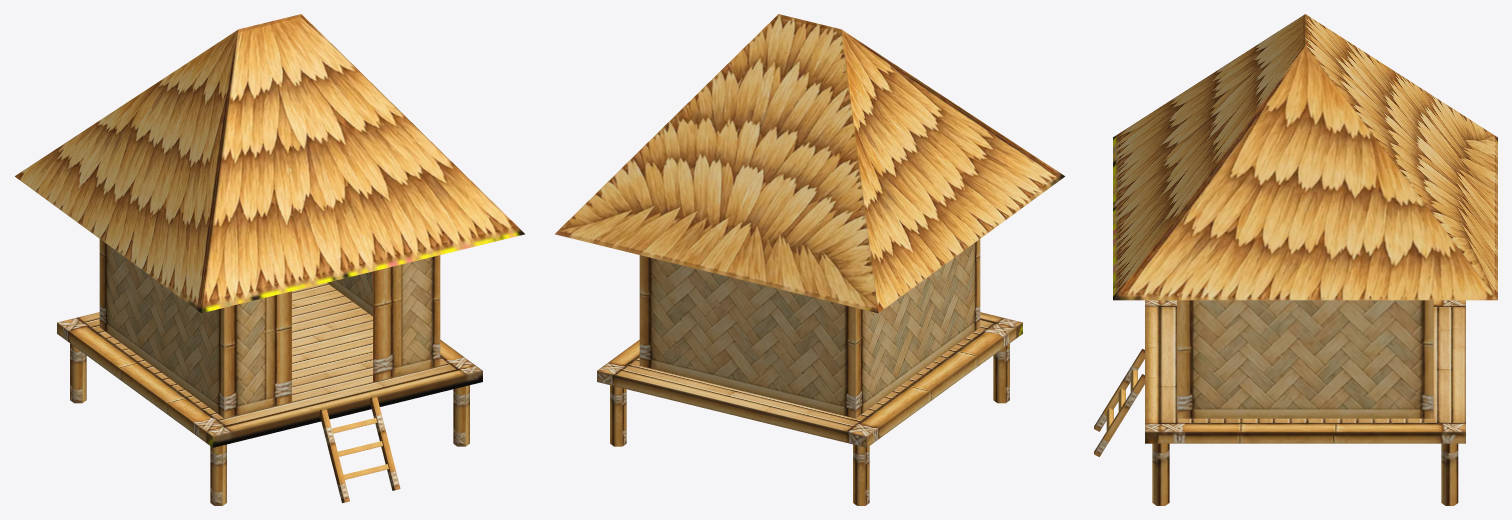
Rendered from hut.glb.
3 renders of one model, left to right at view 1: azimuth 30°, elevation 25°; view 2: azimuth 150°, elevation 25°; view 3: azimuth 270°, elevation 25°, orthographic. The views are drawn at different scales.
Visible parts, largest first — view 1: GEO-hut; view 2: GEO-hut; view 3: GEO-hut.
Boxes of the visible parts, x1,y1,x2,y2 form: GEO-hut: [15, 14, 524, 505]; GEO-hut: [555, 14, 1064, 505]; GEO-hut: [1094, 14, 1497, 505].
Size of the model in its own units: 3.6 by 4.26 by 3.78.
1 material, 1 textured.
